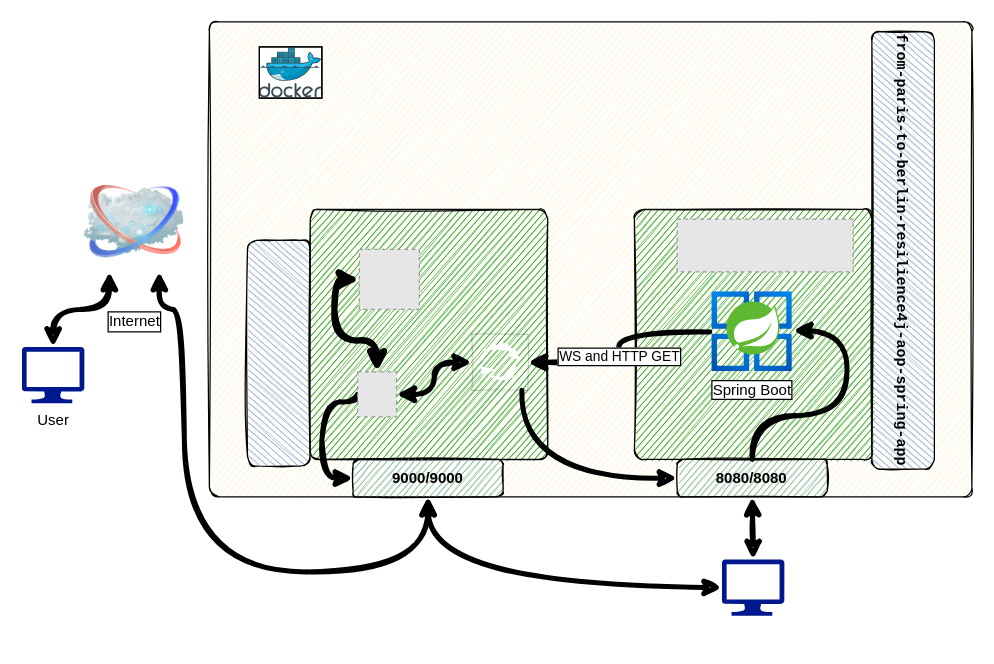
Image size: 994x664. Some labels were removed from this diagram. Grey dashed boxes stand in for pictures. The shapes that lost their labels are listed below. From the top down, each one's centre as x and y in pixels, then its label:
At point (290, 72): "From Paris To Berlin".
At point (278, 352): "from-paris-to-berlin-web".
At point (752, 587): "Test User".
